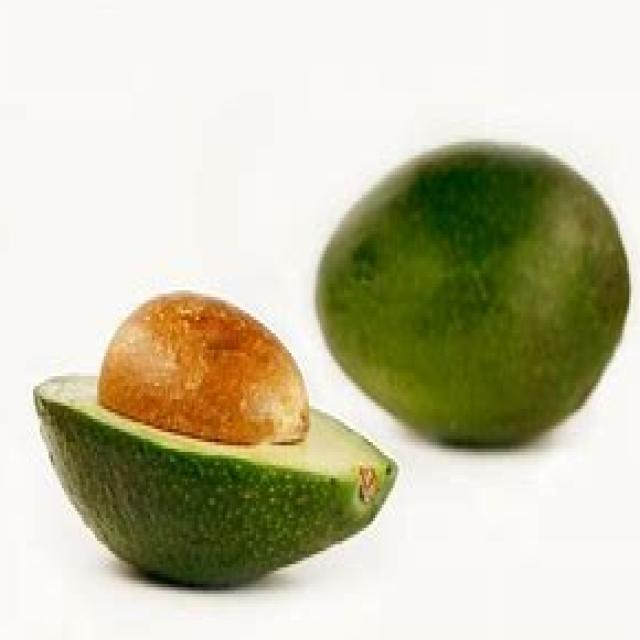avocado: (27, 297, 399, 596), (320, 140, 638, 450)
